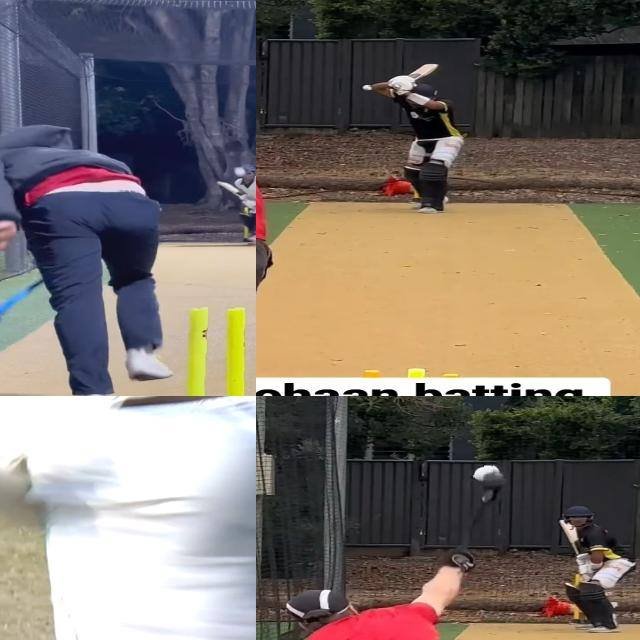Cricket ball: (470, 464, 505, 486), (229, 164, 251, 177), (362, 85, 372, 90)
Stumps: (168, 301, 256, 396)
